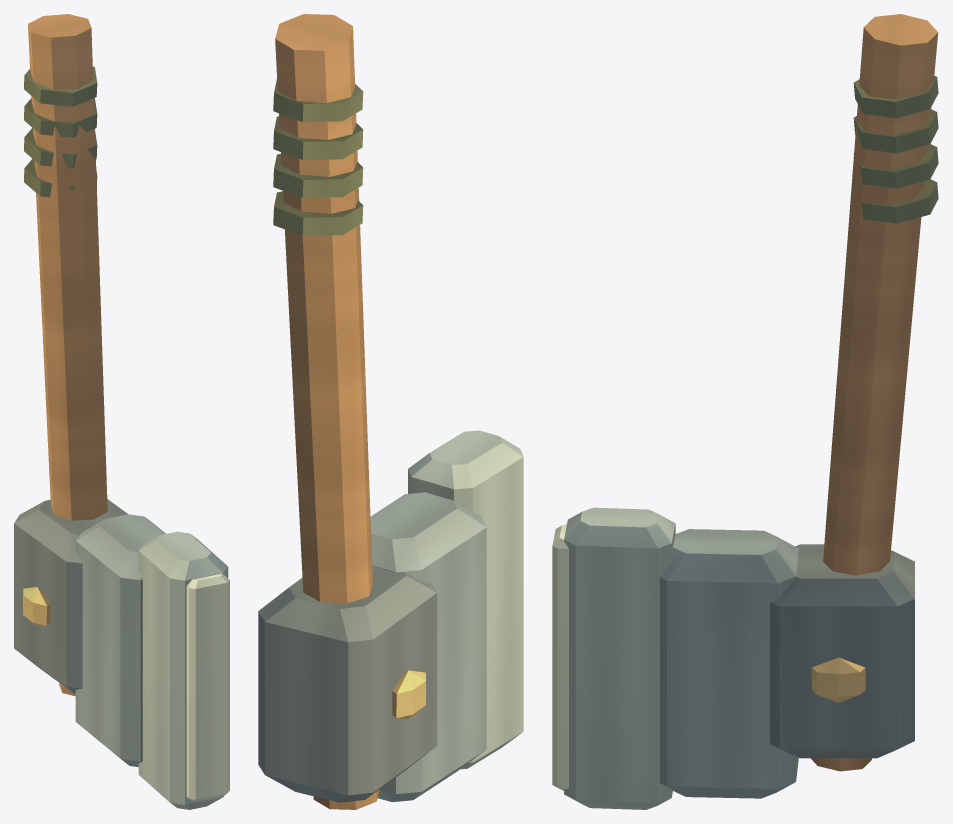
File: axe.glb
3 views of the same model, side by side, from view 1: azimuth 30°, elevation 25°; view 2: azimuth 150°, elevation 25°; view 3: azimuth 270°, elevation 25° (orthographic). The views are drawn at different scales.
Visible parts, largest first — view 1: Axt · Eschengriff, Stahlblatt und Nieten; view 2: Axt · Eschengriff, Stahlblatt und Nieten; view 3: Axt · Eschengriff, Stahlblatt und Nieten.
Part boxes in pixels (x1,y1,x2,y2): Axt · Eschengriff, Stahlblatt und Nieten: (14,14,229,809); Axt · Eschengriff, Stahlblatt und Nieten: (258,14,523,809); Axt · Eschengriff, Stahlblatt und Nieten: (552,14,938,809).
Bounding box in the file's own units: 0.1122 × 0.6155 × 0.2788.
Materials: 2 (2 with a texture image).
